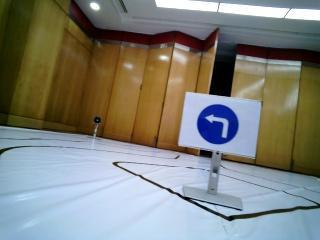left: (186, 97, 253, 155)
